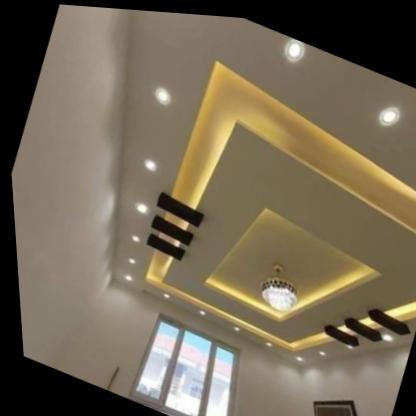Gypsum Board: (0, 0, 416, 410)
